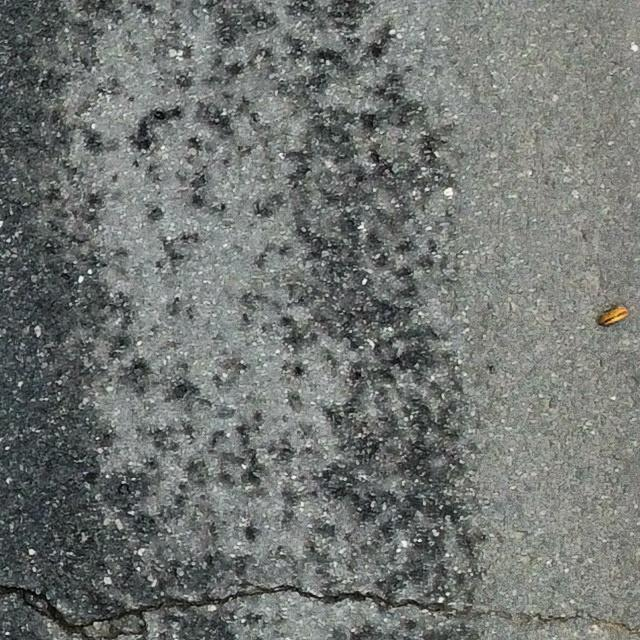TransverseCrack: (1, 584, 640, 636)
